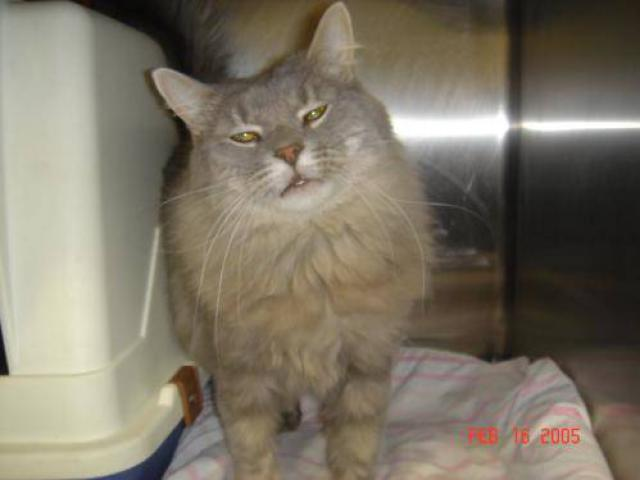cat: (142, 8, 438, 473)
